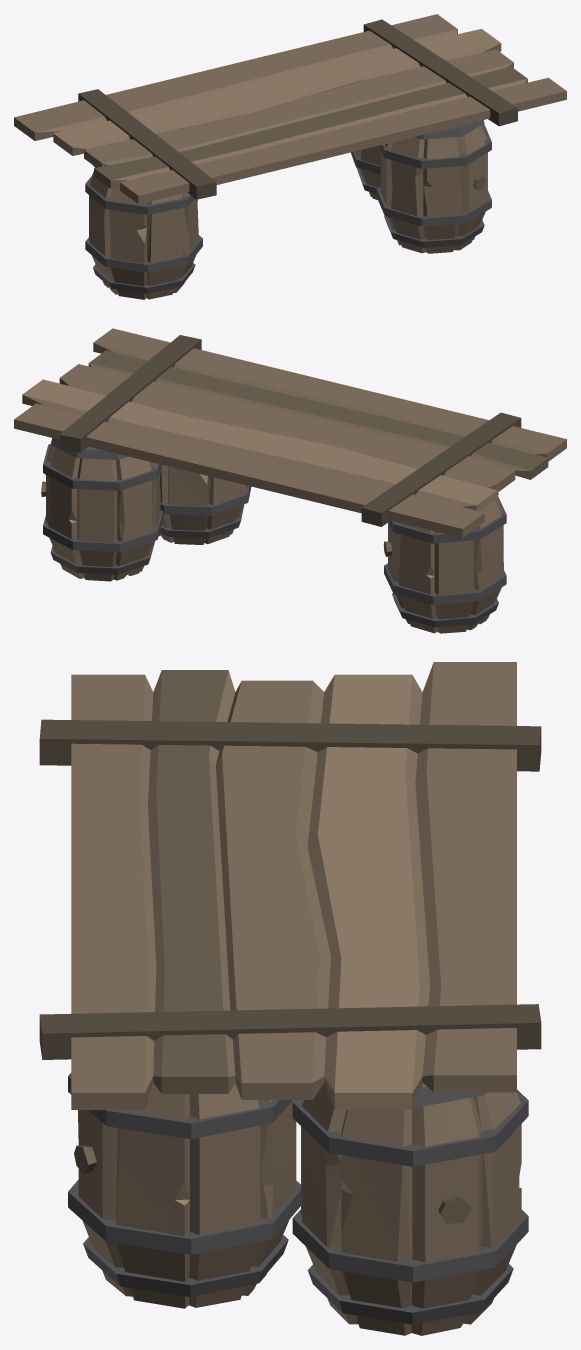
The model's file is tavolo_con_barili.fbx.
The picture shows the model from 3 angles, top to bottom: view 1: azimuth 30°, elevation 25°; view 2: azimuth 150°, elevation 25°; view 3: azimuth 270°, elevation 25°; orthographic projection. The views are drawn at different scales.
Parts seen in each view (by area): view 1: SM_Prop_Table_03; view 2: SM_Prop_Table_03; view 3: SM_Prop_Table_03.
Part boxes in pixels (bbox=[...]): SM_Prop_Table_03: bbox=[14, 14, 566, 299]; SM_Prop_Table_03: bbox=[14, 328, 566, 633]; SM_Prop_Table_03: bbox=[39, 662, 541, 1335].
Size of the model in its own units: 280 by 86.99 by 138.
1 material, 1 textured.
